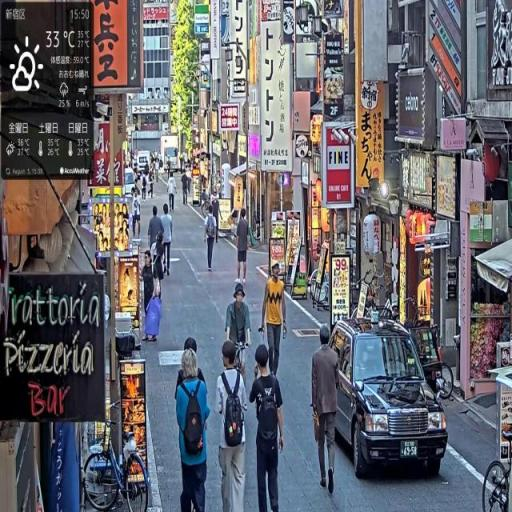person: (214, 338, 249, 512), (250, 343, 286, 512), (176, 343, 211, 512), (311, 319, 342, 500), (261, 262, 288, 384), (225, 283, 253, 379), (148, 205, 167, 294), (235, 211, 252, 285), (204, 207, 219, 274), (162, 205, 175, 279), (167, 174, 177, 215)
